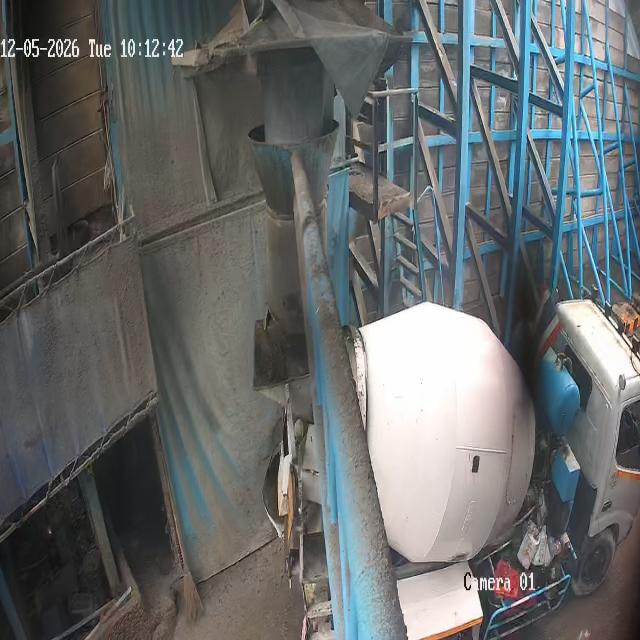cement_mixer_truck: (254, 295, 640, 640)
swing_chute: (251, 126, 342, 335)
